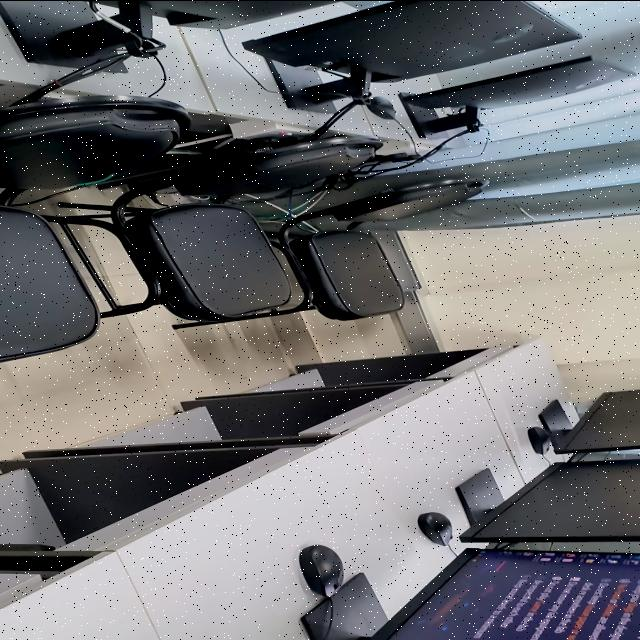Chair: (45, 136, 380, 324), (0, 80, 190, 361), (279, 179, 486, 319)
Monitor: (243, 0, 582, 81), (381, 549, 640, 640), (460, 459, 640, 542), (402, 56, 636, 109), (138, 0, 341, 28), (559, 389, 640, 451)
Mouse: (299, 543, 343, 595), (418, 511, 453, 545), (528, 426, 551, 455)
